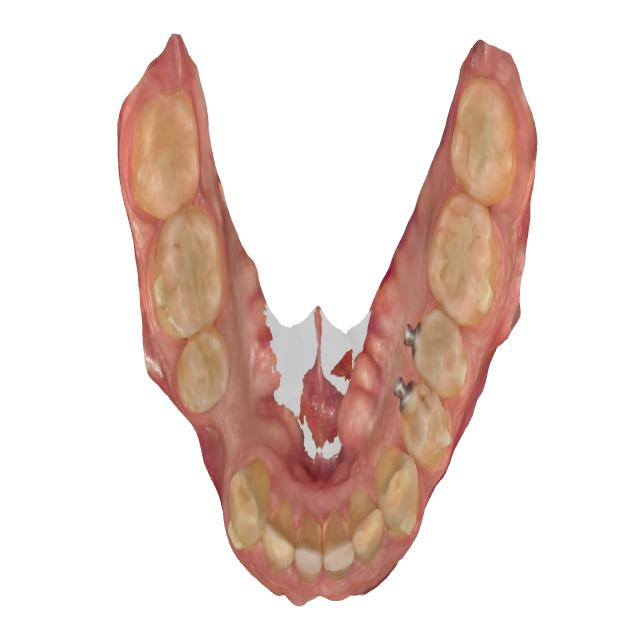tooth: (420, 183, 511, 341), (143, 196, 234, 343), (125, 81, 206, 227), (441, 70, 521, 210), (396, 299, 475, 407), (389, 363, 457, 481), (168, 320, 241, 420), (220, 439, 275, 560), (367, 439, 428, 541), (341, 476, 387, 570), (286, 492, 331, 587), (262, 482, 302, 582), (316, 498, 359, 582)
